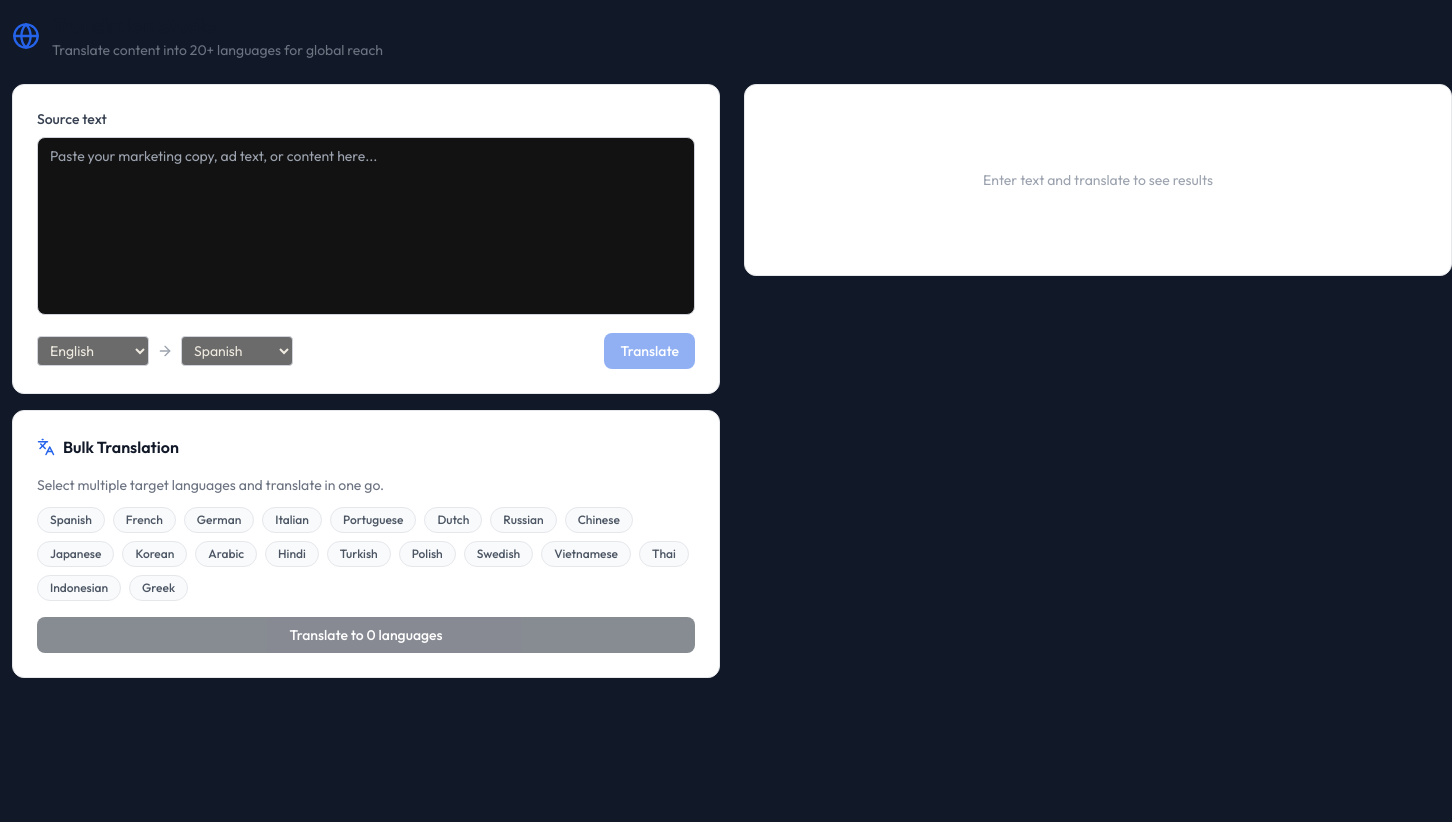
Test: visible studio failures › fallback translation text is not presented as a successful translation
Type "Keep this marketing copy" into the text box with placeholder "Paste your marketing copy, ad text, or content here...".
click(366, 226); type("Keep this marketing copy")  # box [37,137,695,315]
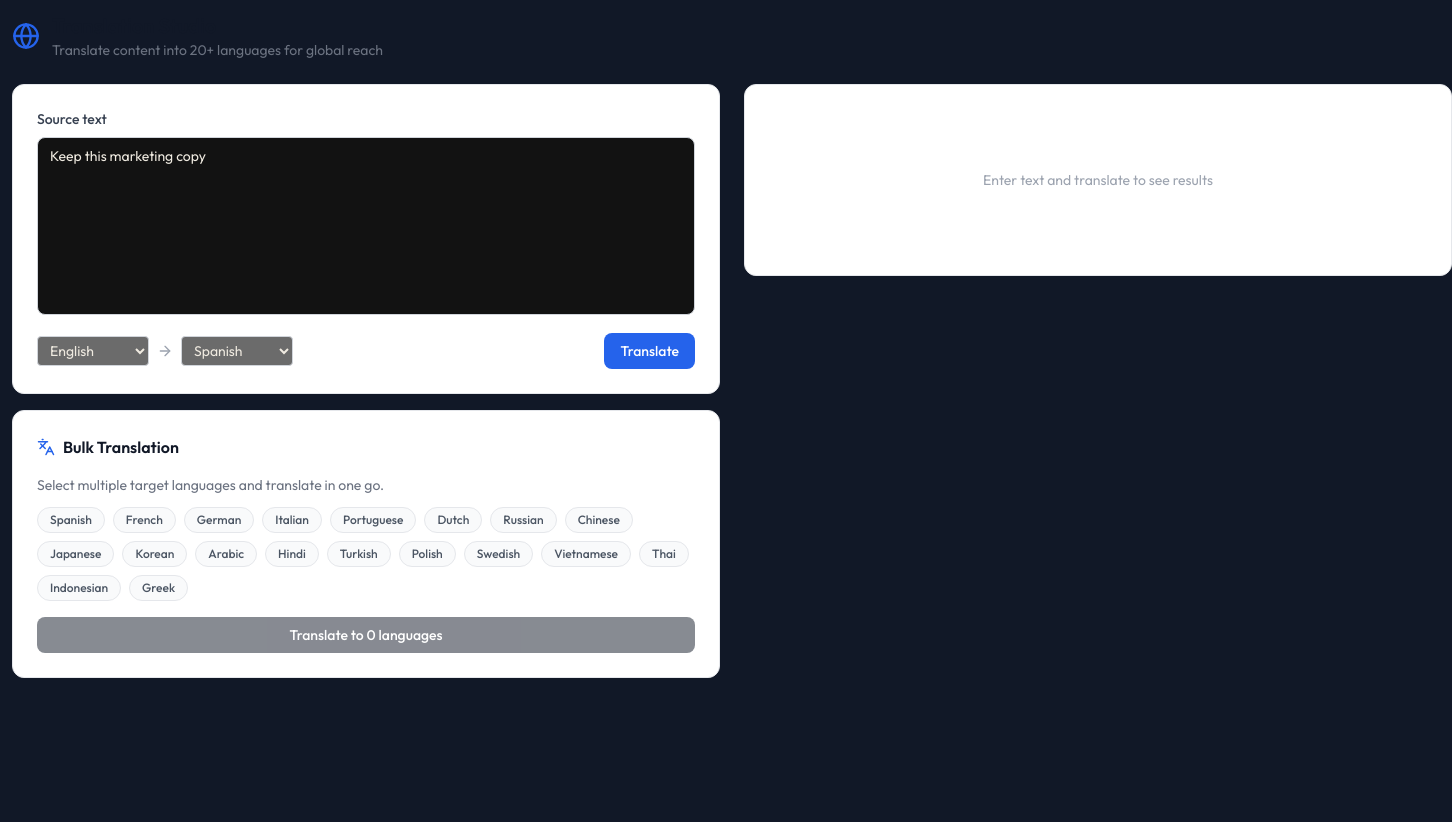
Click the button "Translate".
click(650, 351)  # box [604,333,695,369]
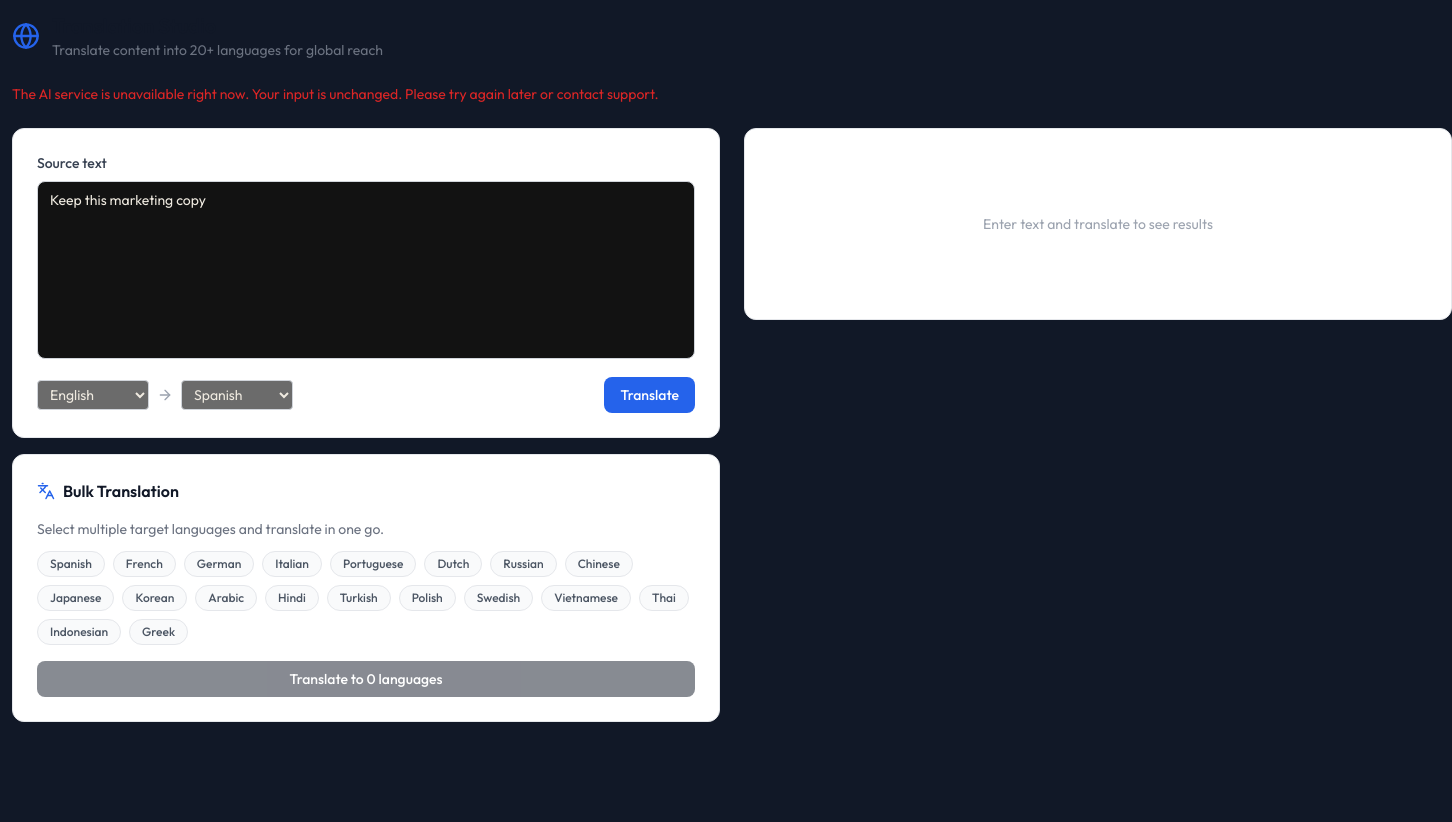
Expected: the message shows "unavailable", [12,85,659,103]
